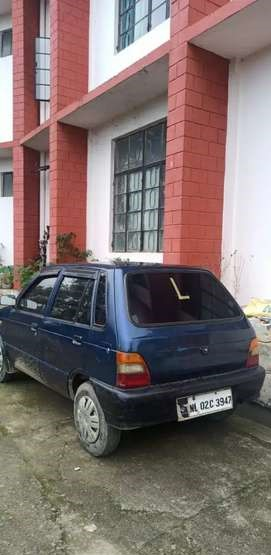NL02C3947: (176, 387, 233, 420)
